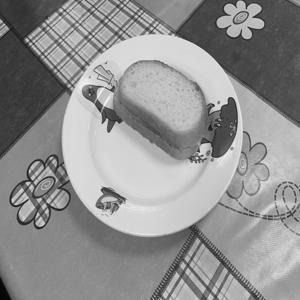bread: (109, 39, 211, 174)
